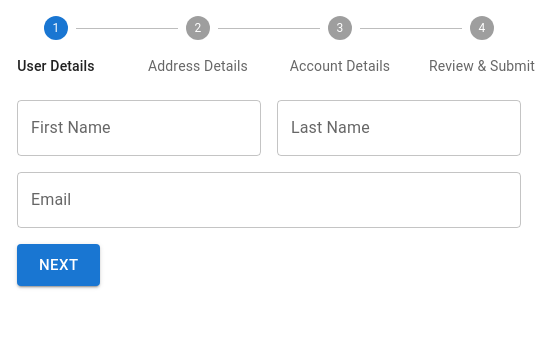
Test: MultiStepForm › shows validation messages on empty submit (Step 1)
The width and height of the screenshot is (552, 352).
Step 1. Click the button "Next" → (59, 265), box [17, 244, 100, 286]
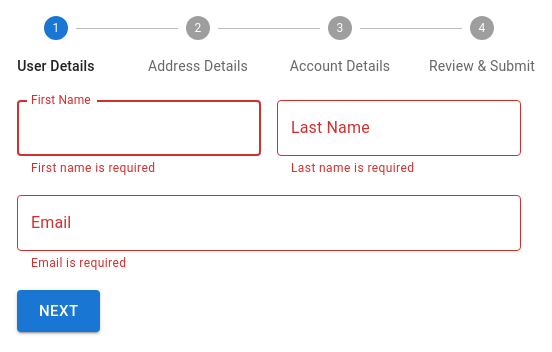
Expected: the text "First name is required" is shown 3 times, [31, 161, 155, 175]; [291, 161, 414, 175]; [31, 256, 126, 270]
